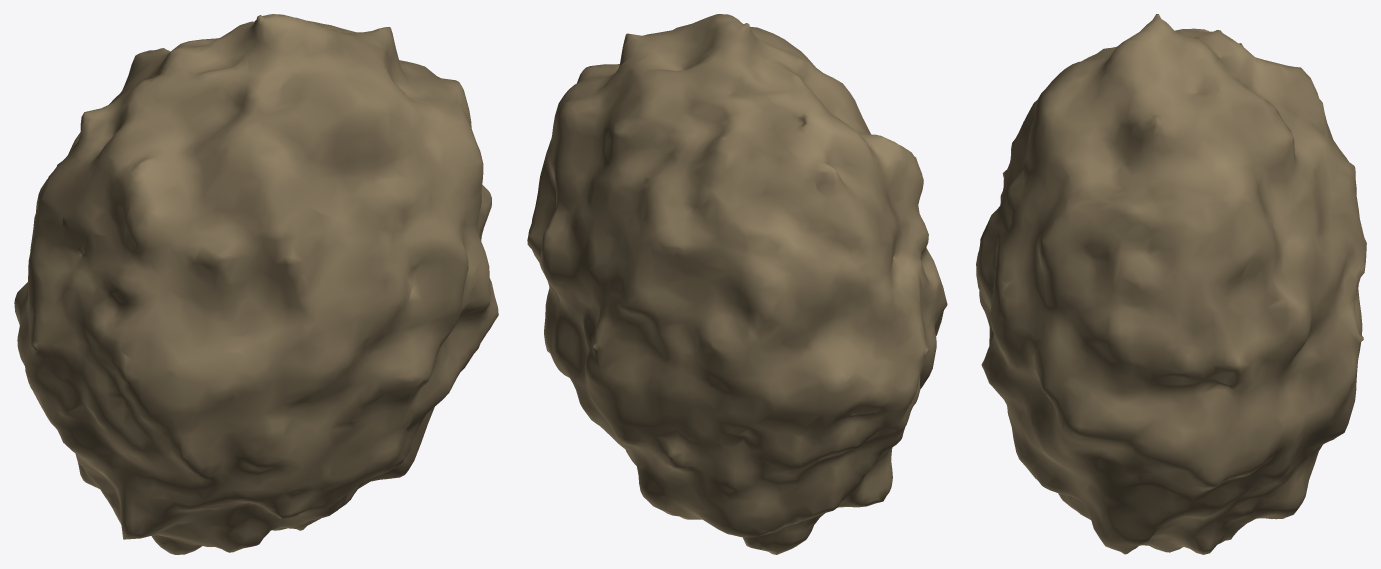
File: dragonstone-desktop.glb
3 renders of one model, left to right at view 1: azimuth 30°, elevation 25°; view 2: azimuth 150°, elevation 25°; view 3: azimuth 270°, elevation 25°, orthographic. The views are drawn at different scales.
Parts seen in each view (by area): view 1: dragonstone; view 2: dragonstone; view 3: dragonstone.
Part boxes in pixels (x1,y1,x2,y2): dragonstone: (14, 14, 498, 554); dragonstone: (527, 14, 947, 554); dragonstone: (976, 14, 1366, 554).
Size of the model in its own units: 0.8199 by 1 by 0.6499.
